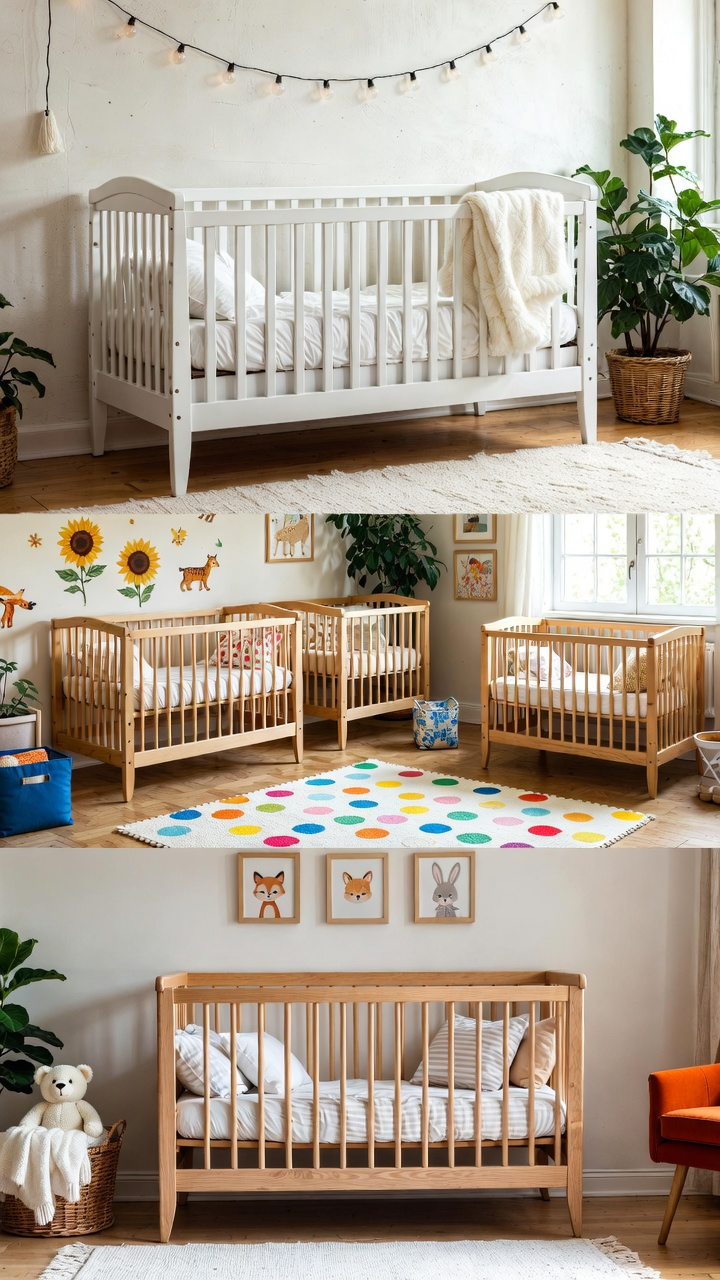crib: (89, 172, 596, 494), (157, 972, 584, 1240), (53, 604, 302, 800), (482, 617, 703, 797), (281, 593, 428, 749)
